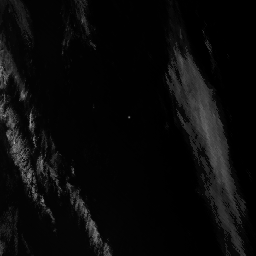Target: (126, 115, 131, 120)
